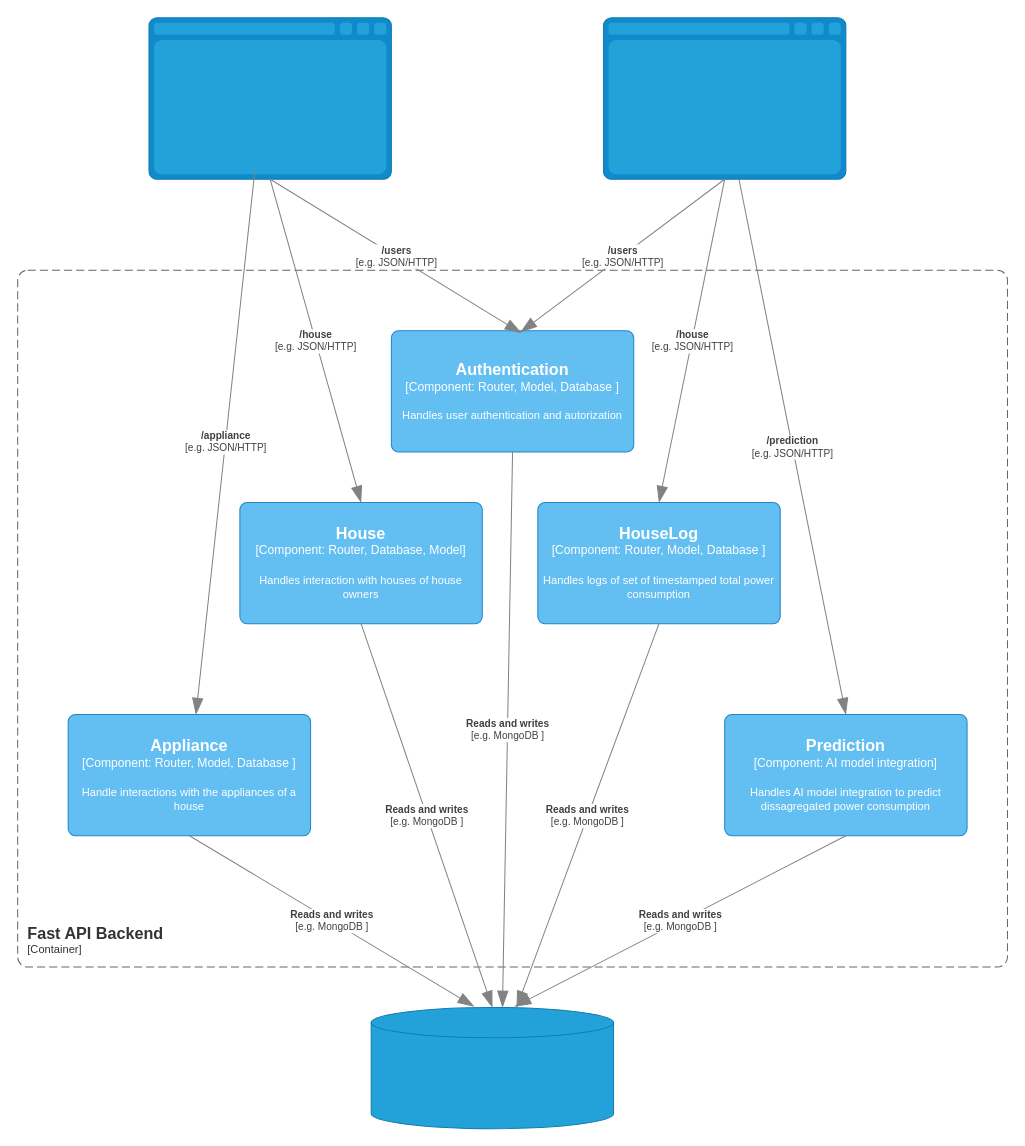
This 1025x1146 diagram has some shape labels left out. Here are the shapes that lost their labels. From the top down, the centre of each, then its label:
point 269,98: Company Web App [Container: Next.js App] Next.js App for the company
point 724,98: House Owner Web App [Container: Next.js app] Web Application for house owner
point 492,1067: Wattio DB [Container: e.g. Mongo DB] Contains Wattio Data
